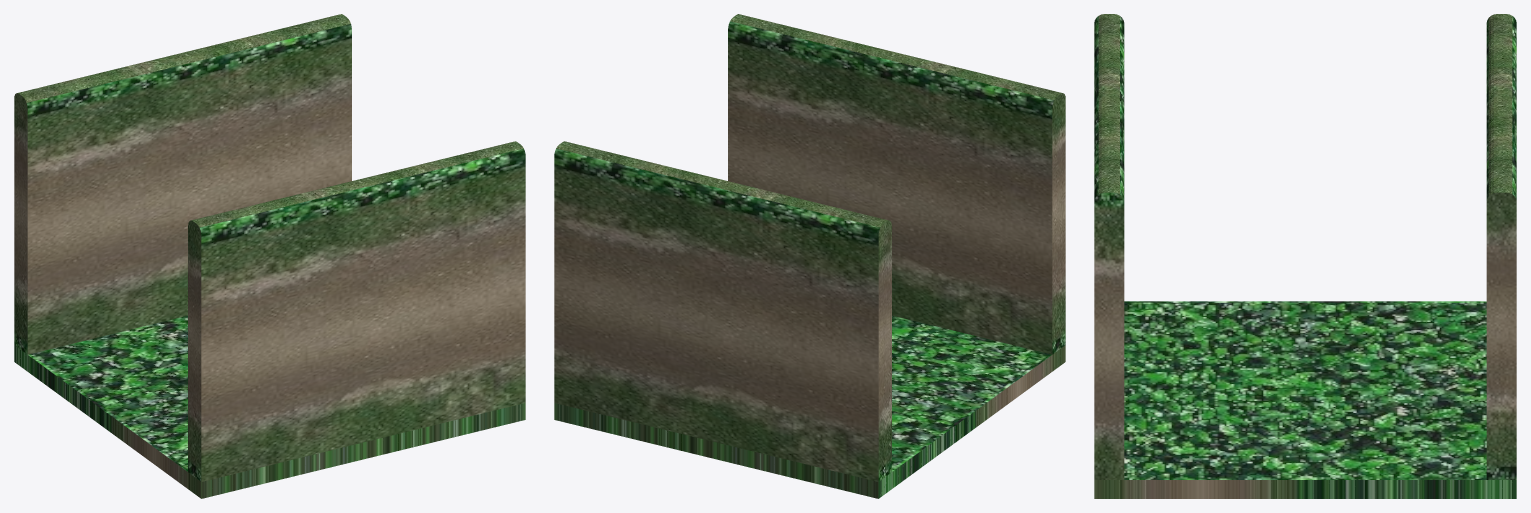
The model's file is Coridor.obj.
3 views of the same model, side by side, from view 1: azimuth 30°, elevation 25°; view 2: azimuth 150°, elevation 25°; view 3: azimuth 270°, elevation 25° (orthographic). The views are drawn at different scales.
Parts seen in each view (by area): view 1: Plane; view 2: Plane; view 3: Plane.
Part boxes in pixels (x1=…): Plane: x1=14, y1=14, x2=525, y2=498; Plane: x1=554, y1=14, x2=1065, y2=498; Plane: x1=1094, y1=14, x2=1516, y2=498.
Size of the model in its own units: 2 by 1.6 by 2.
Materials: 1 (1 with a texture image).
